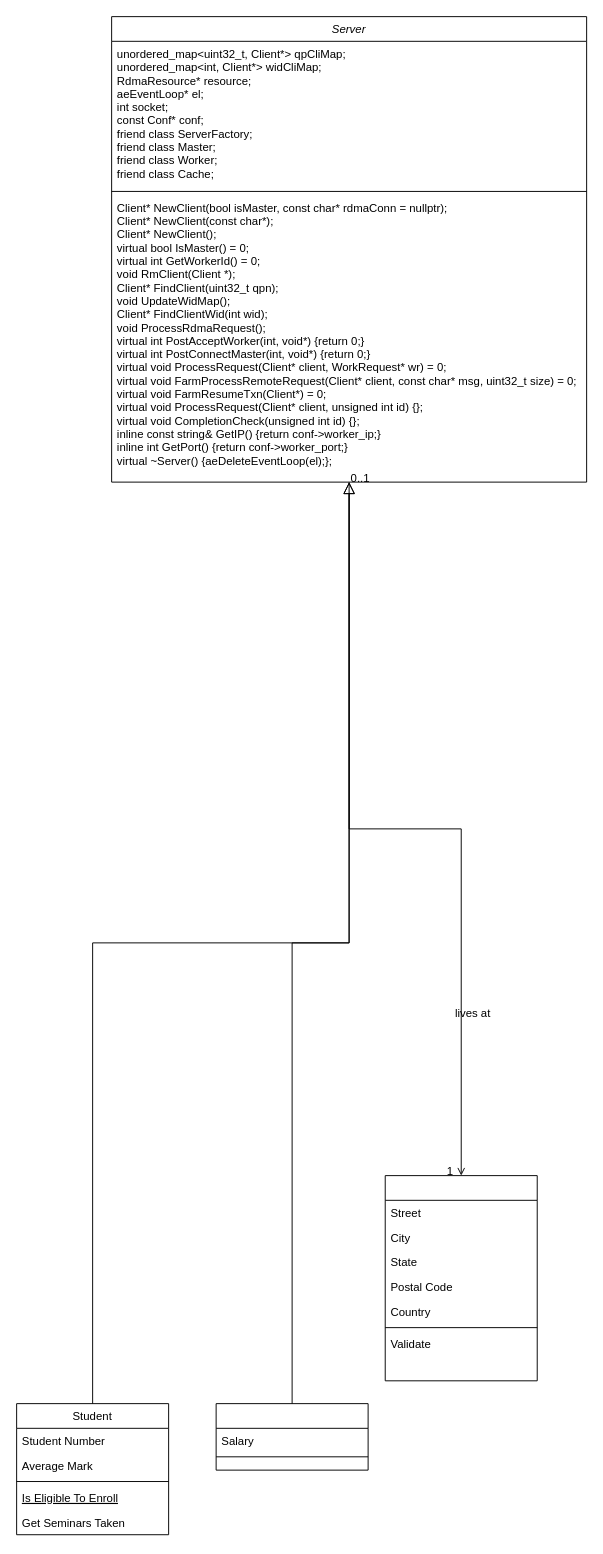
This 603x1554 diagram has some shape labels left out. Here are the shapes that lost their labels. From the top down, the box of each, then its label:
(384, 1175, 537, 1381): Address
(215, 1403, 368, 1470): Professor
